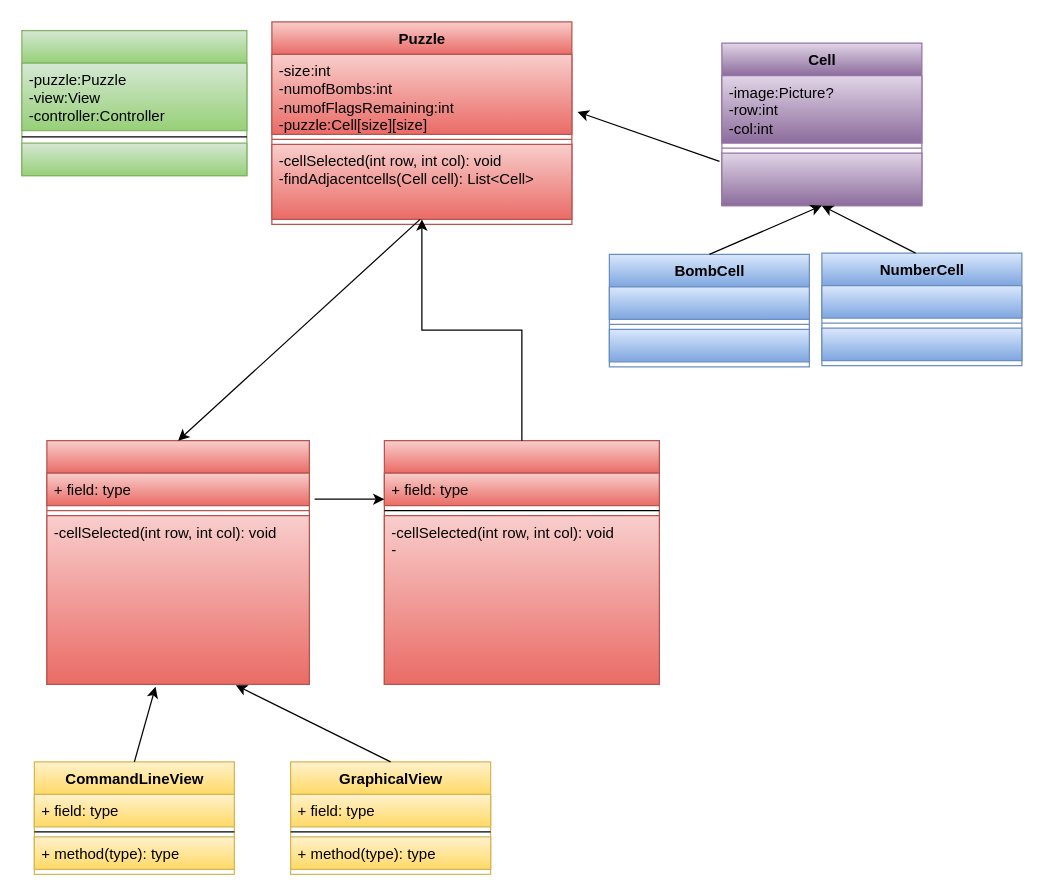
Some shapes in this 1044 by 896 pixel diagram are drawn without their labels. Each missing label, with the box of its shape:
Controller: (383, 439, 659, 684)
MinesweeperApp: (21, 29, 247, 176)
View: (46, 439, 309, 684)
